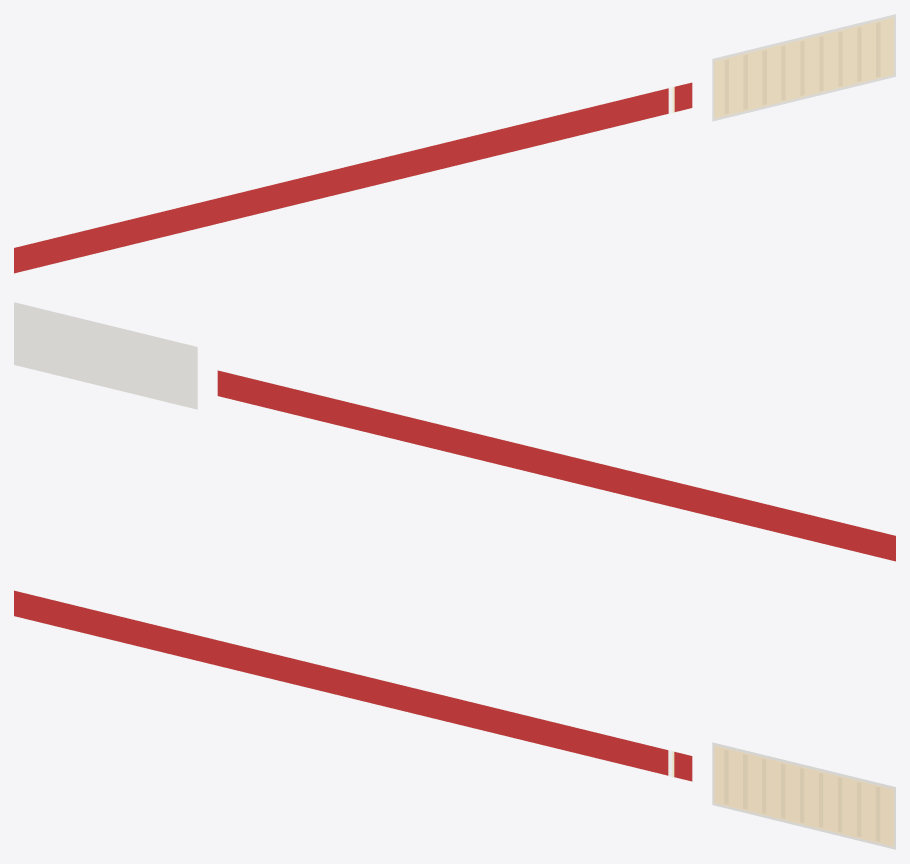
The model's file is longueur.glb.
3 renders of one model, top to bottom at view 1: azimuth 30°, elevation 25°; view 2: azimuth 150°, elevation 25°; view 3: azimuth 330°, elevation 25°, orthographic.
Parts seen in each view (by area): view 1: elan, fosse, bordure, ligne, ligne.001; view 2: elan, bordure, ligne.001, ligne; view 3: elan, fosse, bordure, ligne.001, ligne.
Part boxes in pixels (x1=…): elan: x1=14, y1=82, x2=692, y2=273; fosse: x1=714, y1=17, x2=893, y2=118; bordure: x1=712, y1=14, x2=895, y2=121; ligne: x1=14, y1=108, x2=692, y2=273; ligne.001: x1=14, y1=82, x2=692, y2=247; elan: x1=217, y1=370, x2=895, y2=561; bordure: x1=14, y1=302, x2=197, y2=409; ligne.001: x1=218, y1=370, x2=895, y2=535; ligne: x1=218, y1=396, x2=895, y2=561; elan: x1=14, y1=590, x2=692, y2=781; fosse: x1=714, y1=745, x2=893, y2=846; bordure: x1=712, y1=742, x2=895, y2=849; ligne.001: x1=14, y1=590, x2=691, y2=755; ligne: x1=14, y1=616, x2=691, y2=781.
Bounding box in the file's own units: 44.2 × 3 × 0.021.
